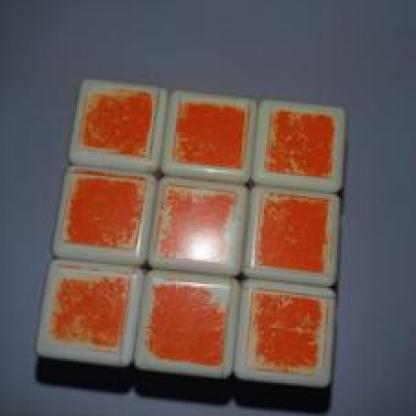cube: (70, 65, 354, 384)
